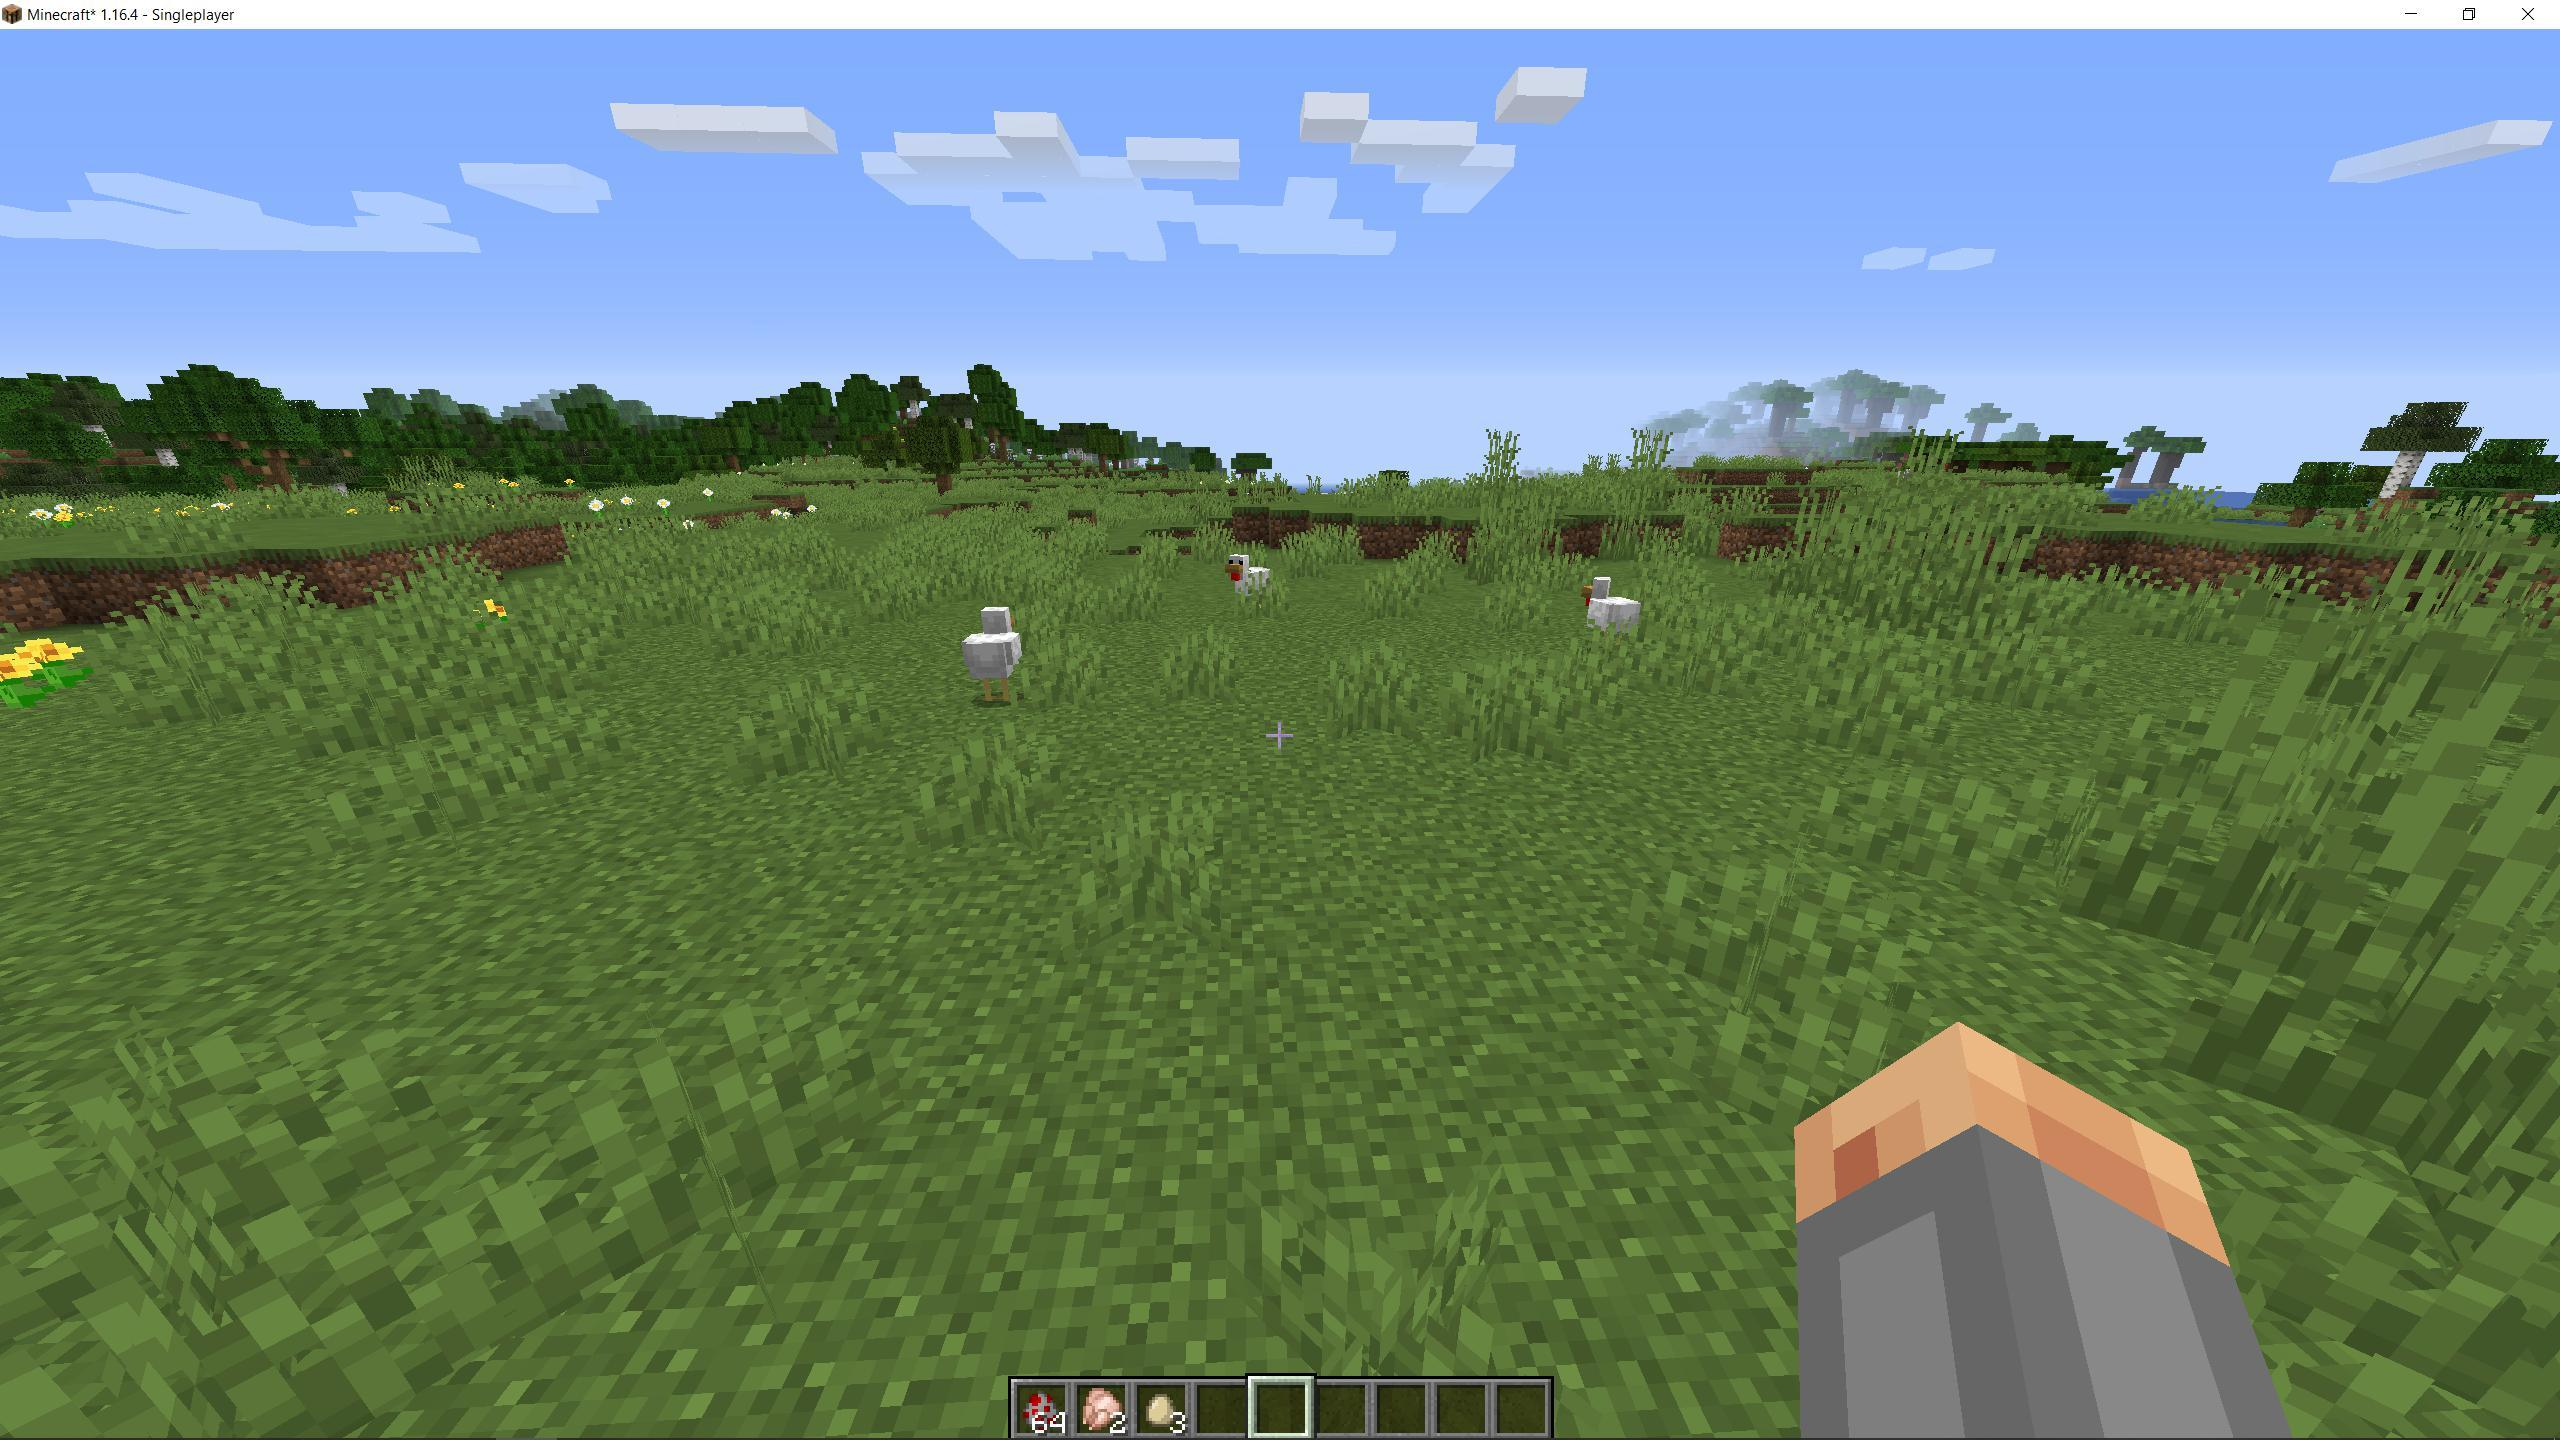chicken: (956, 601, 1034, 703), (1575, 573, 1644, 663), (1215, 545, 1284, 624)
